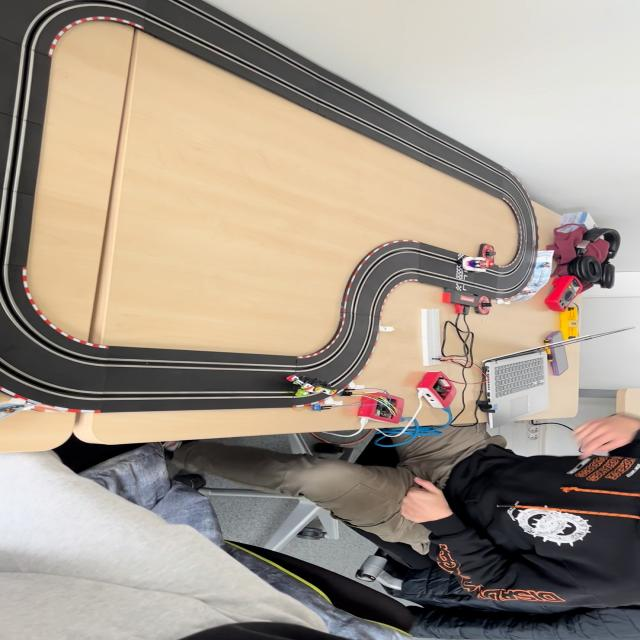mario: (459, 254, 495, 274)
yoshi: (284, 372, 340, 399)
